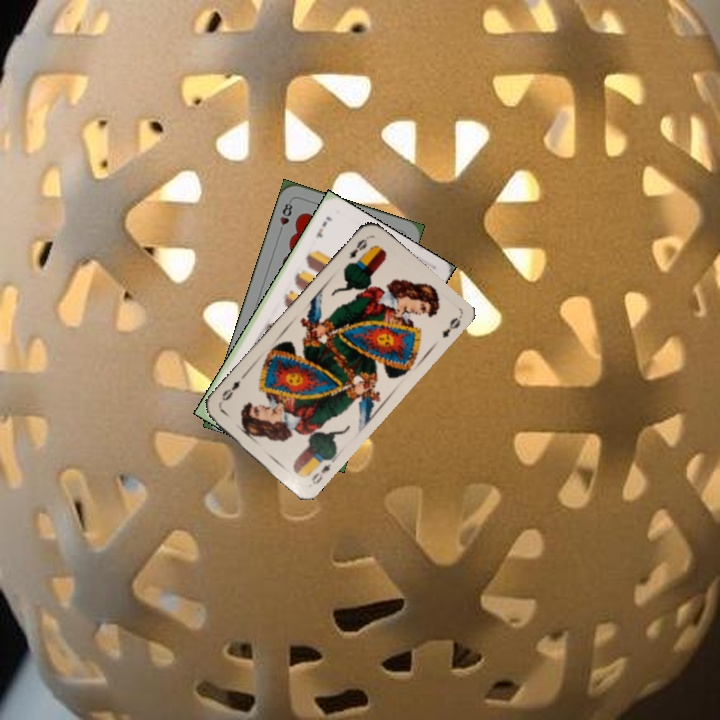E7: (312, 212, 335, 240)
EO: (307, 454, 337, 487), (343, 233, 371, 268)
H8: (275, 197, 295, 236)
